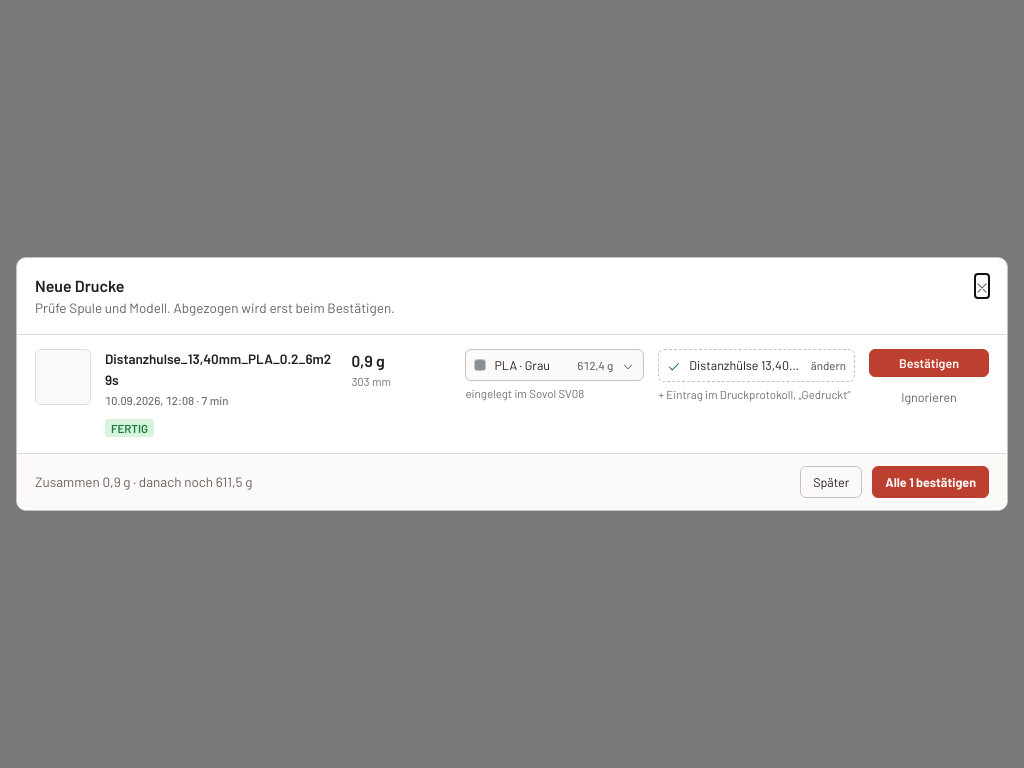
Test case: PrinterJobsDialog › does not close the dialog when Escape is pressed inside the open spool picker
The width and height of the screenshot is (1024, 768).
Click the button with aria-label "Spule" at (555, 365), box top-left (466, 349), bottom-right (644, 381)
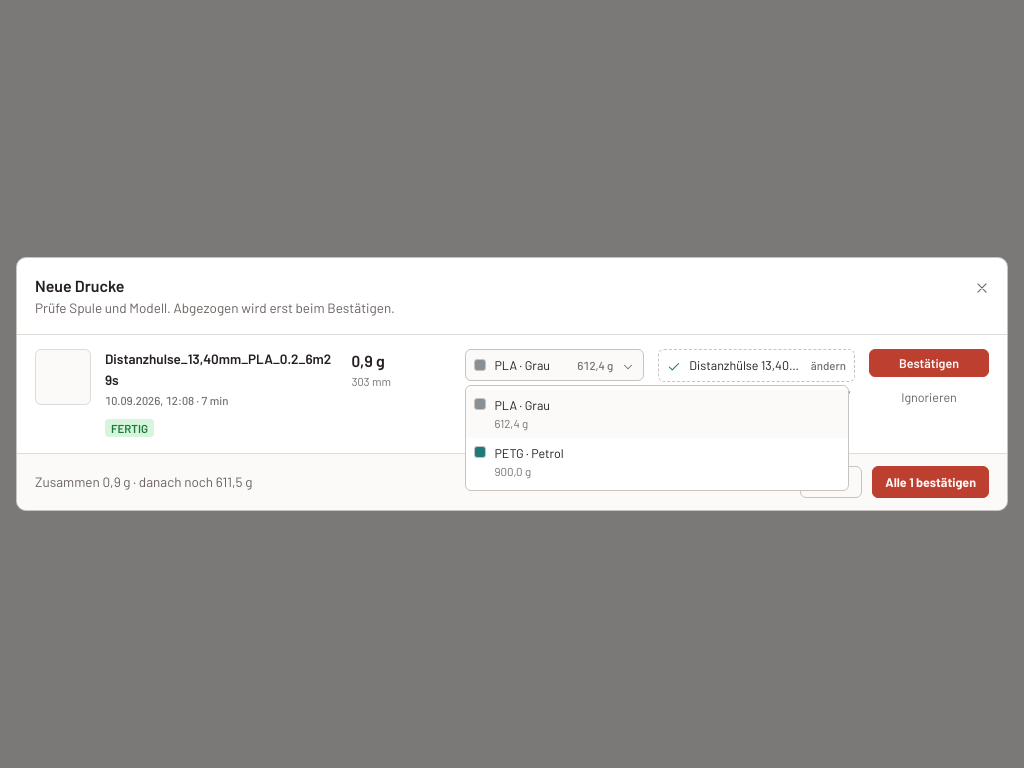
Press Escape in the list, box top-left (466, 385), bottom-right (850, 491)
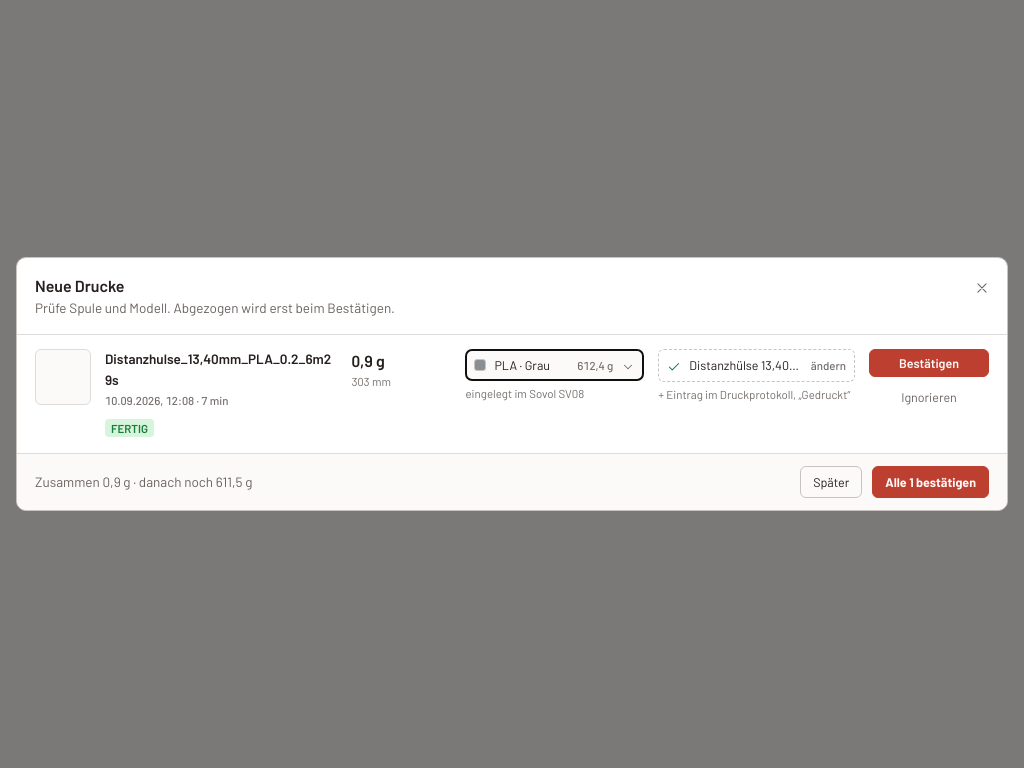
Check: the dialog is shown, box top-left (16, 257), bottom-right (1008, 511)
Check: the list is gone
